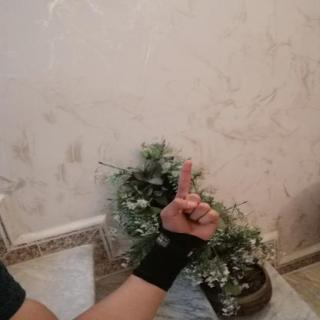BAA: (146, 154, 227, 252)
